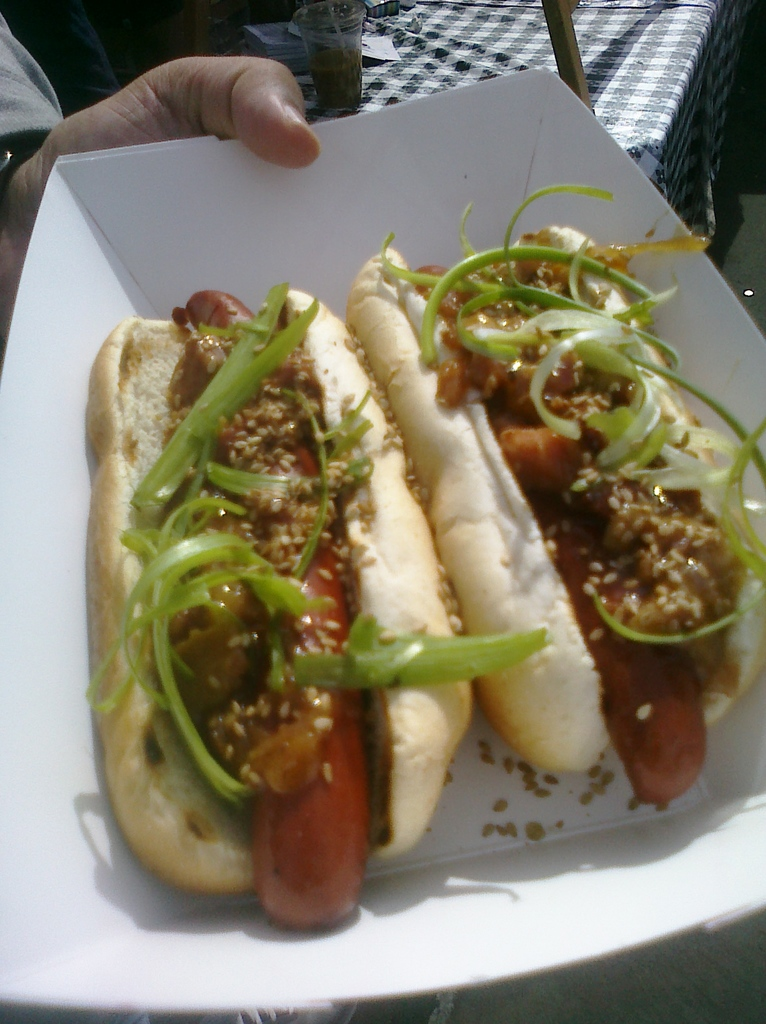hot_dog: (78, 262, 482, 943), (349, 186, 765, 810)
